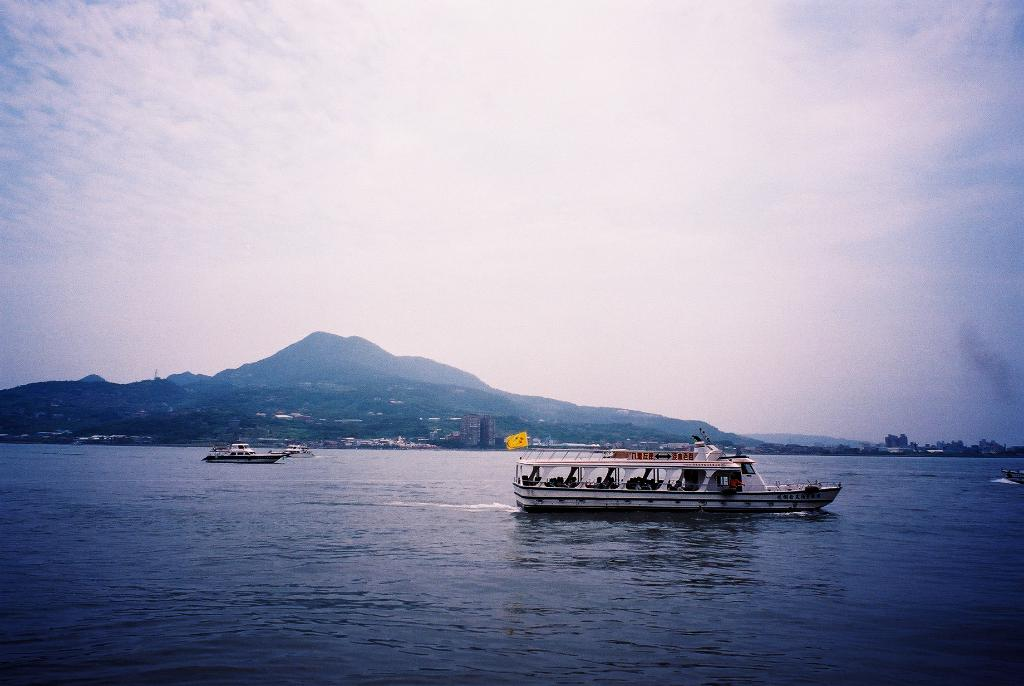boat: (492, 423, 859, 525), (194, 432, 290, 477), (282, 439, 332, 468)
